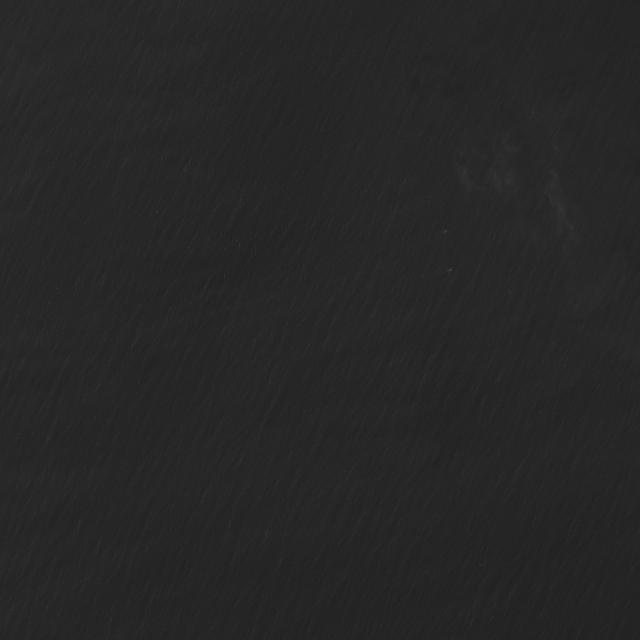ship: (447, 268, 453, 272), (443, 229, 448, 233)
